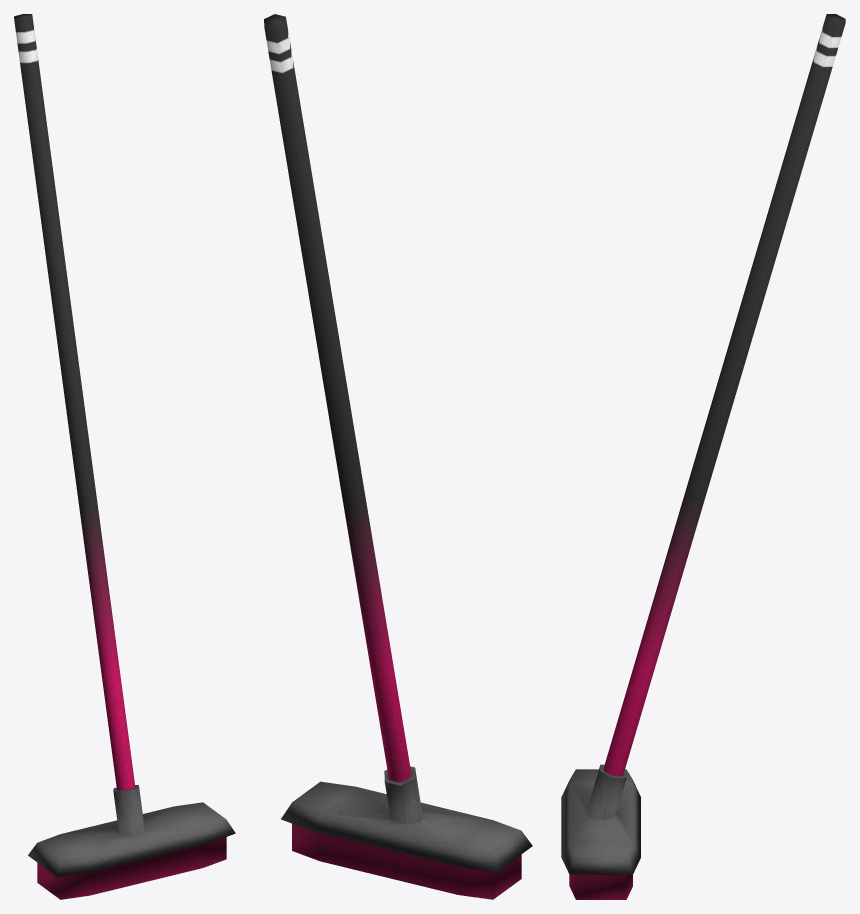
Rendered from Broom.fbx.
3 views of the same model, side by side, from view 1: azimuth 30°, elevation 25°; view 2: azimuth 150°, elevation 25°; view 3: azimuth 270°, elevation 25° (orthographic). The views are drawn at different scales.
Parts seen in each view (by area): view 1: Broom; view 2: Broom; view 3: Broom.
Boxes of the visible parts, x1,y1,x2,y2 form: Broom: [14, 14, 235, 899]; Broom: [264, 14, 532, 899]; Broom: [561, 14, 845, 899].
Bounding box in the file's own units: 1.12 × 4.66 × 1.43.
